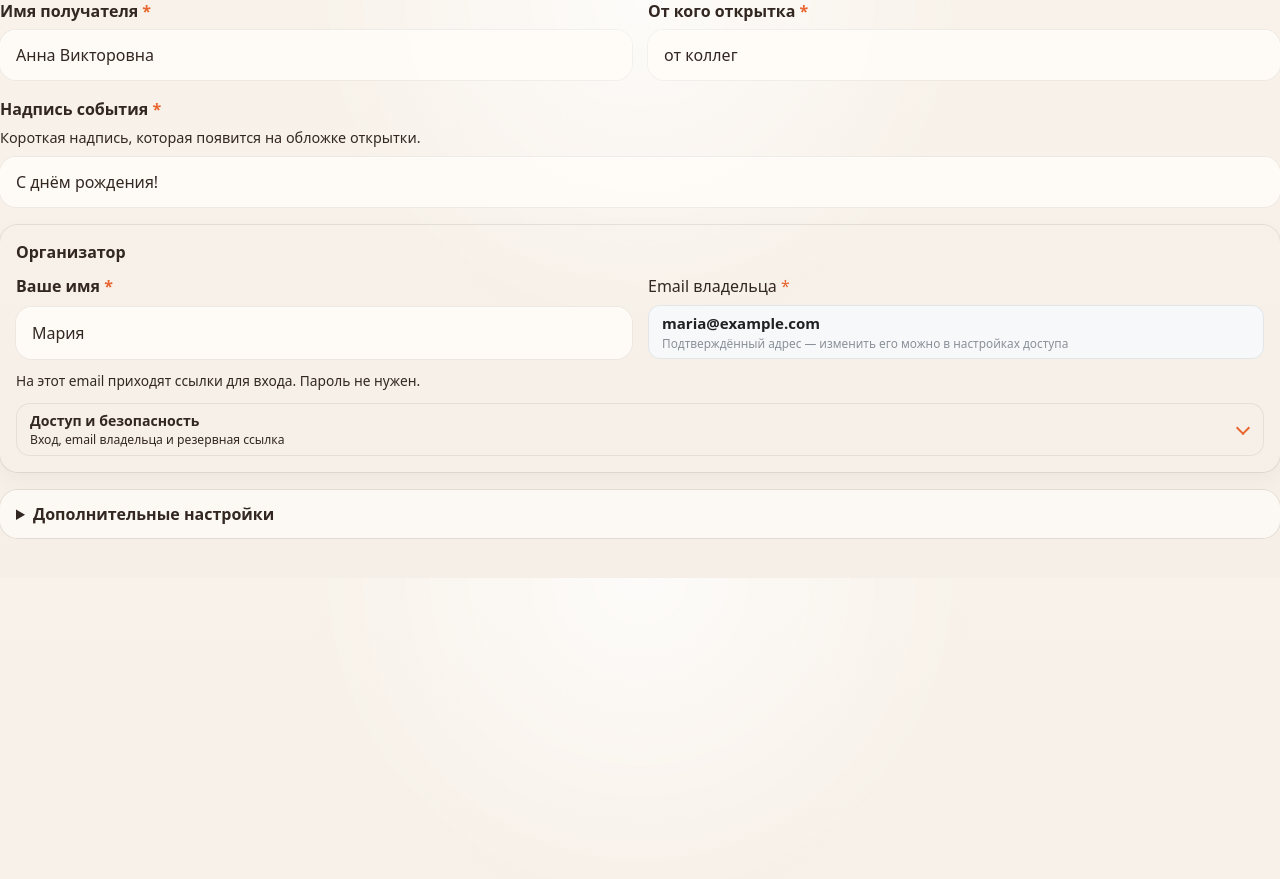
Scenario: BasicsSettingsForm mobile summary › explains the consequences before replacing or revoking reserve links
Click the heading "Доступ и безопасность".
click(157, 429)  # box [30, 411, 285, 448]
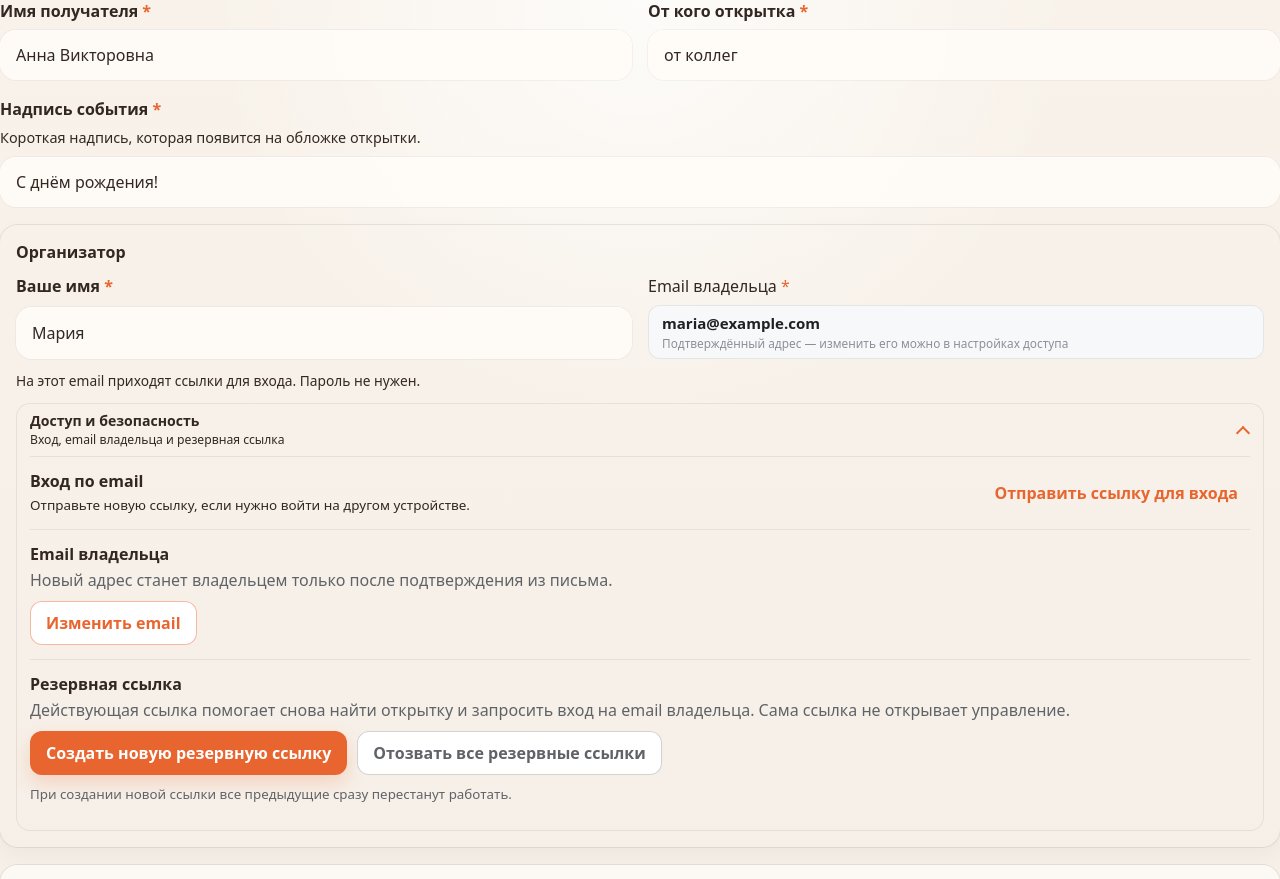
Click the button "Создать новую резервную ссылку".
click(189, 753)  # box [30, 731, 347, 775]
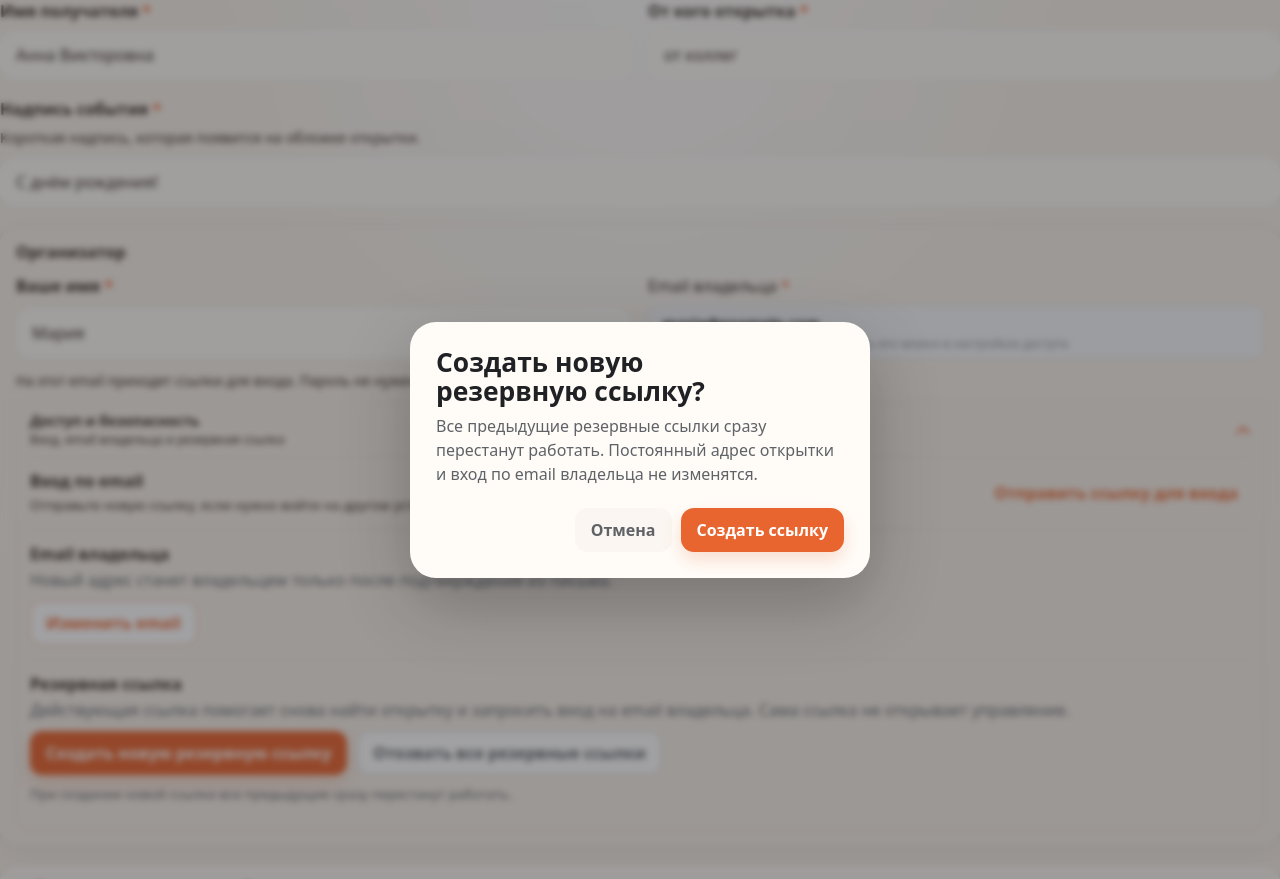
expect the text "вход по email владельца не изменятся" is shown: met, box [436, 415, 834, 485]
Click the button "Создать ссылку".
click(762, 530)  # box [680, 508, 844, 552]
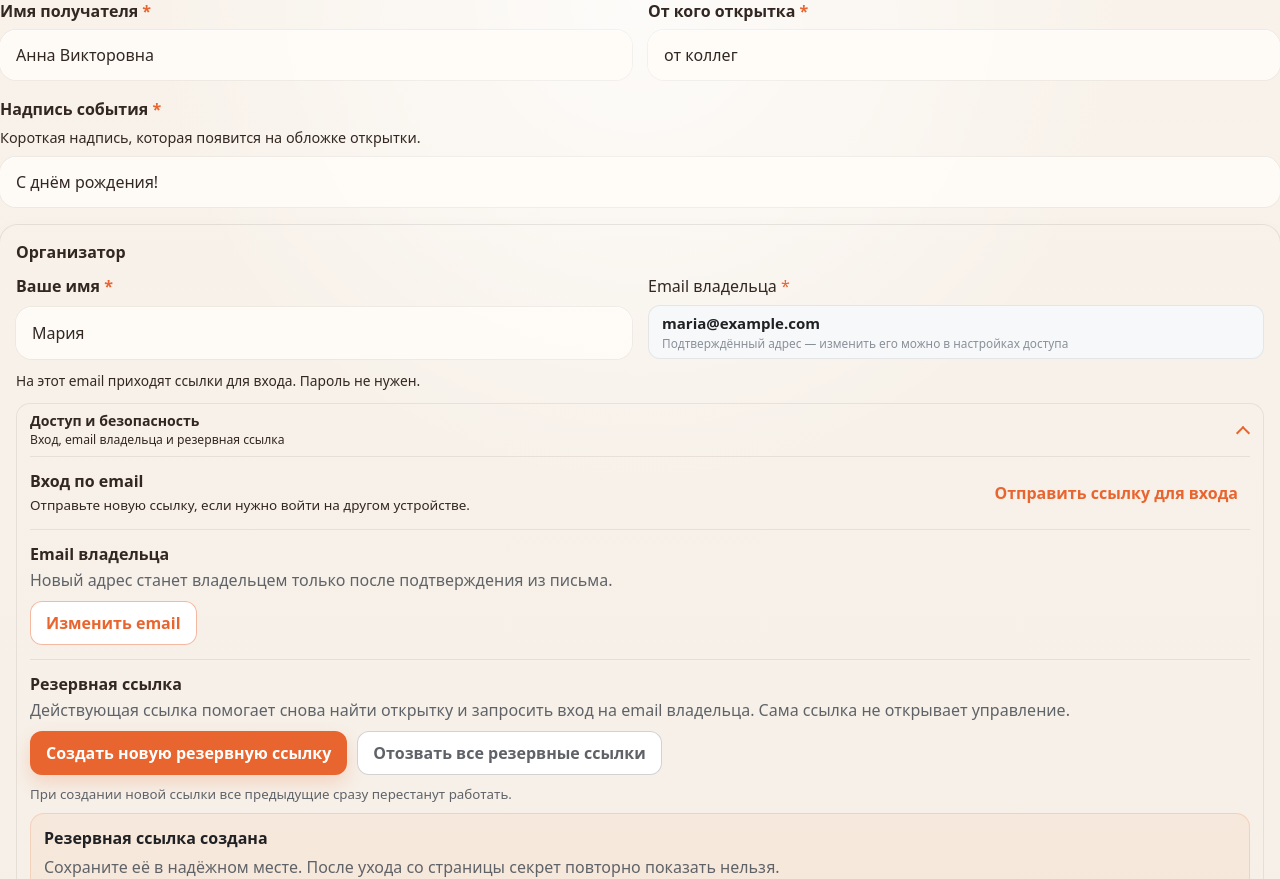
Click the button "Отозвать все резервные ссылки".
click(510, 753)  # box [357, 731, 662, 775]
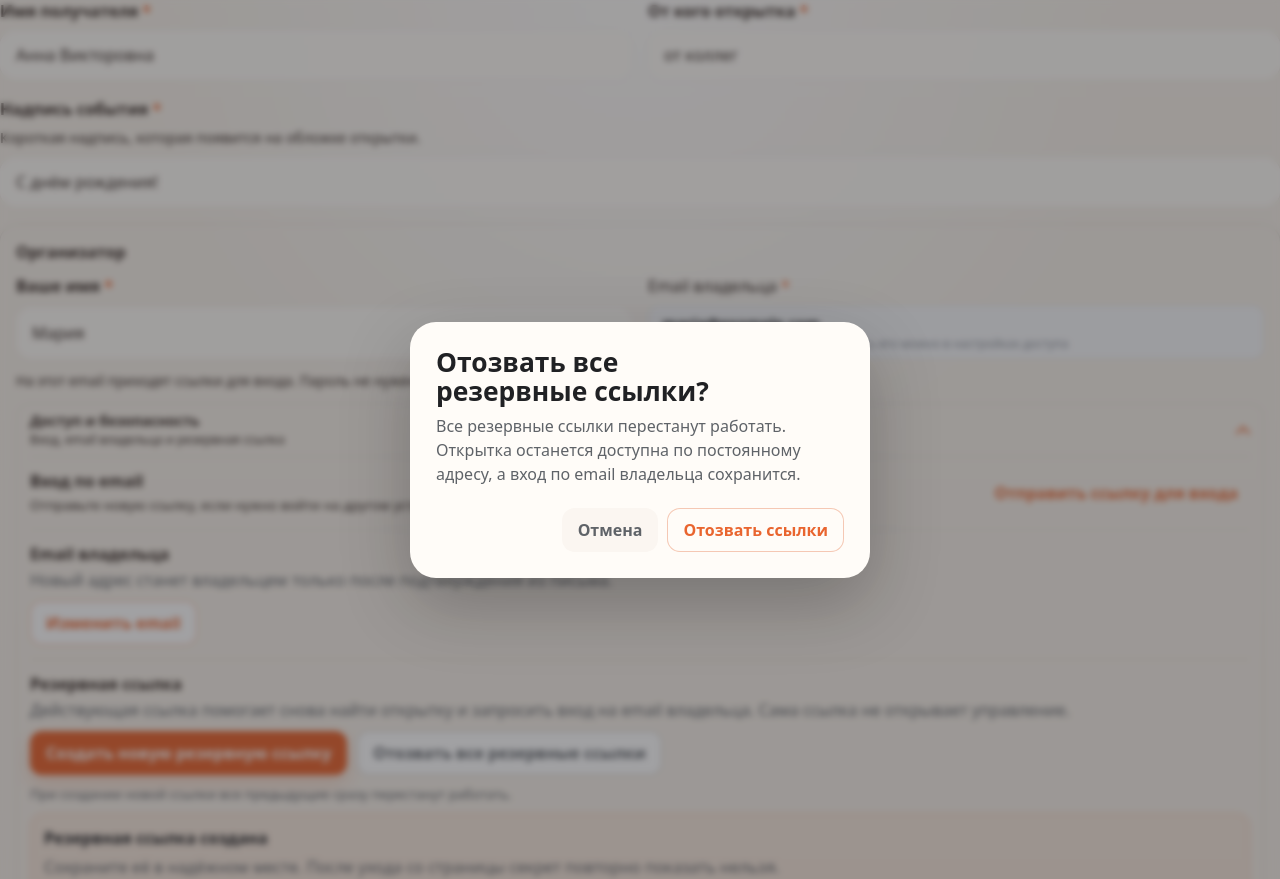
expect the text "вход по email владельца сохранится" is shown: met, box [436, 415, 801, 485]
